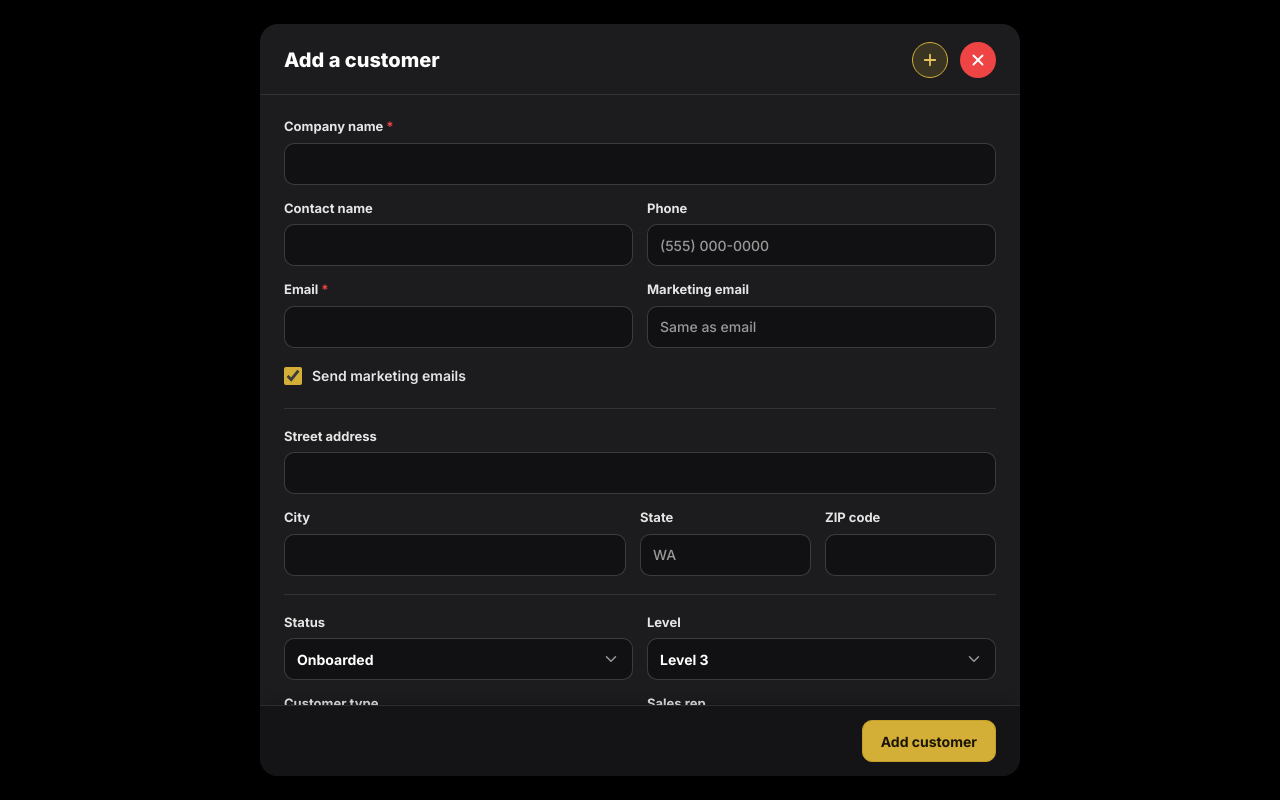
Add / Edit customer › fills city and state from the ZIP
The image size is (1280, 800).
Type "98101" into the field with id "cf-zipCode" at (910, 554), box [825,534,996,576]
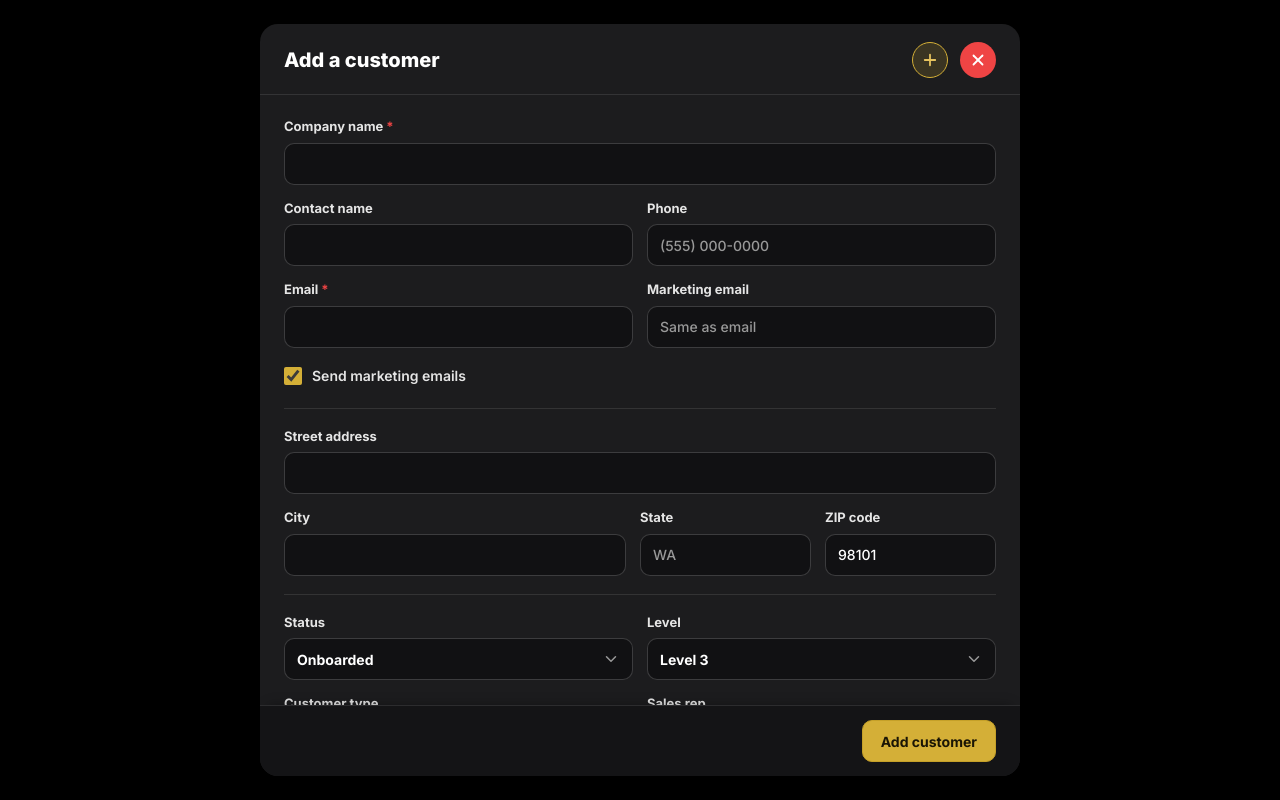
Leave the field with id "cf-zipCode", box [825,534,996,576]
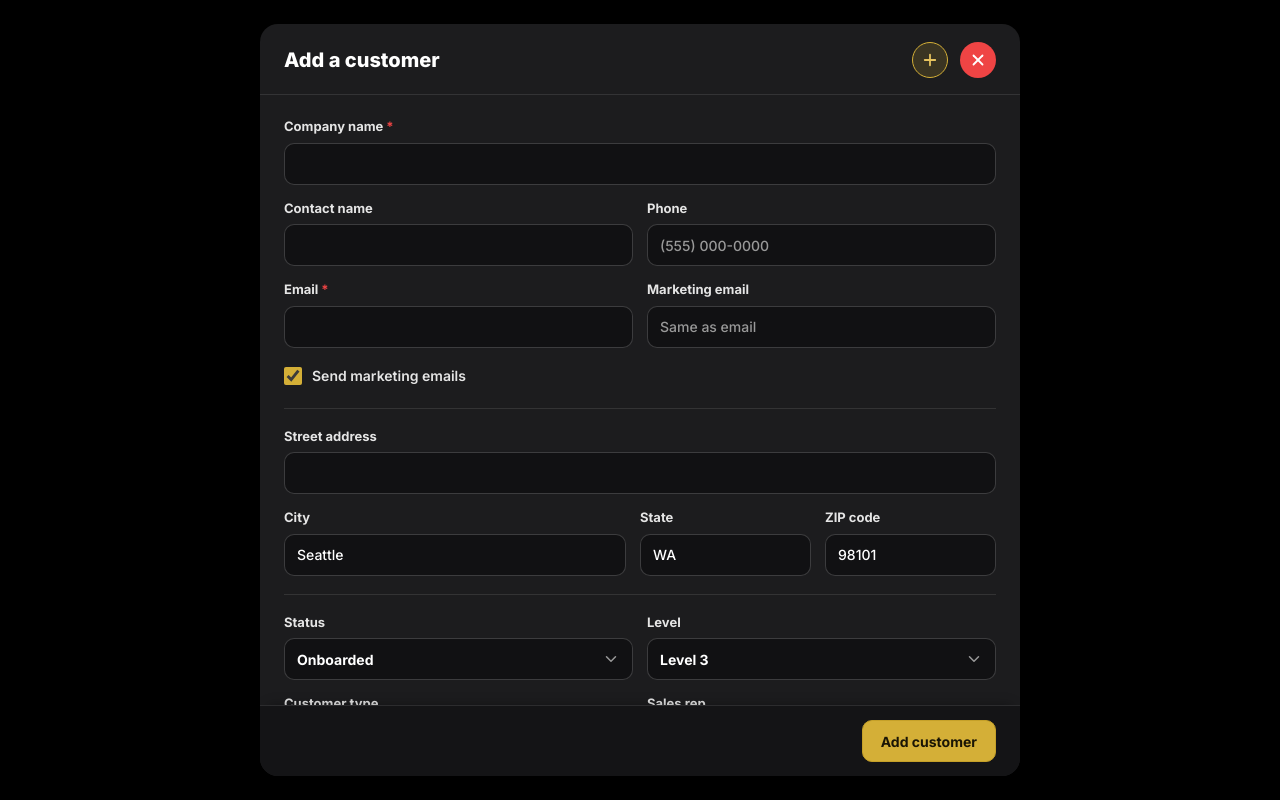
Expected: the field with id "cf-city" holds "Seattle", [284,534,626,576]
Expected: the field with id "cf-state" holds "WA", [640,534,811,576]
